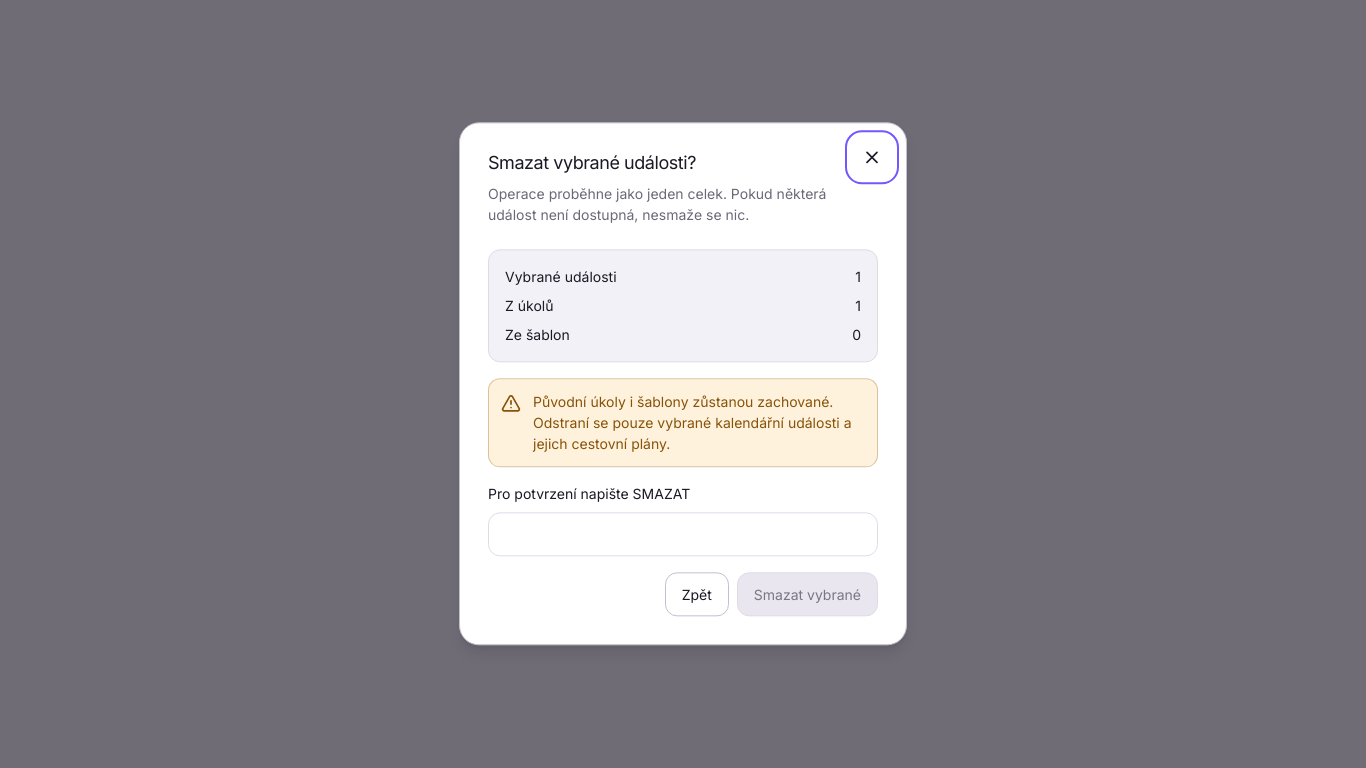
Test: shared calendar frontend › requires the explicit SMAZAT confirmation for bulk delete
The image size is (1366, 768).
Expected: the button "Smazat vybrané" is disabled, [737, 573, 878, 617]
Expected: the 1st text "1" is shown, [855, 267, 861, 288]
In the field labelled "Pro potvrzení napište SMAZAT": (683, 535) [488, 513, 878, 557], type "SMAZAT"
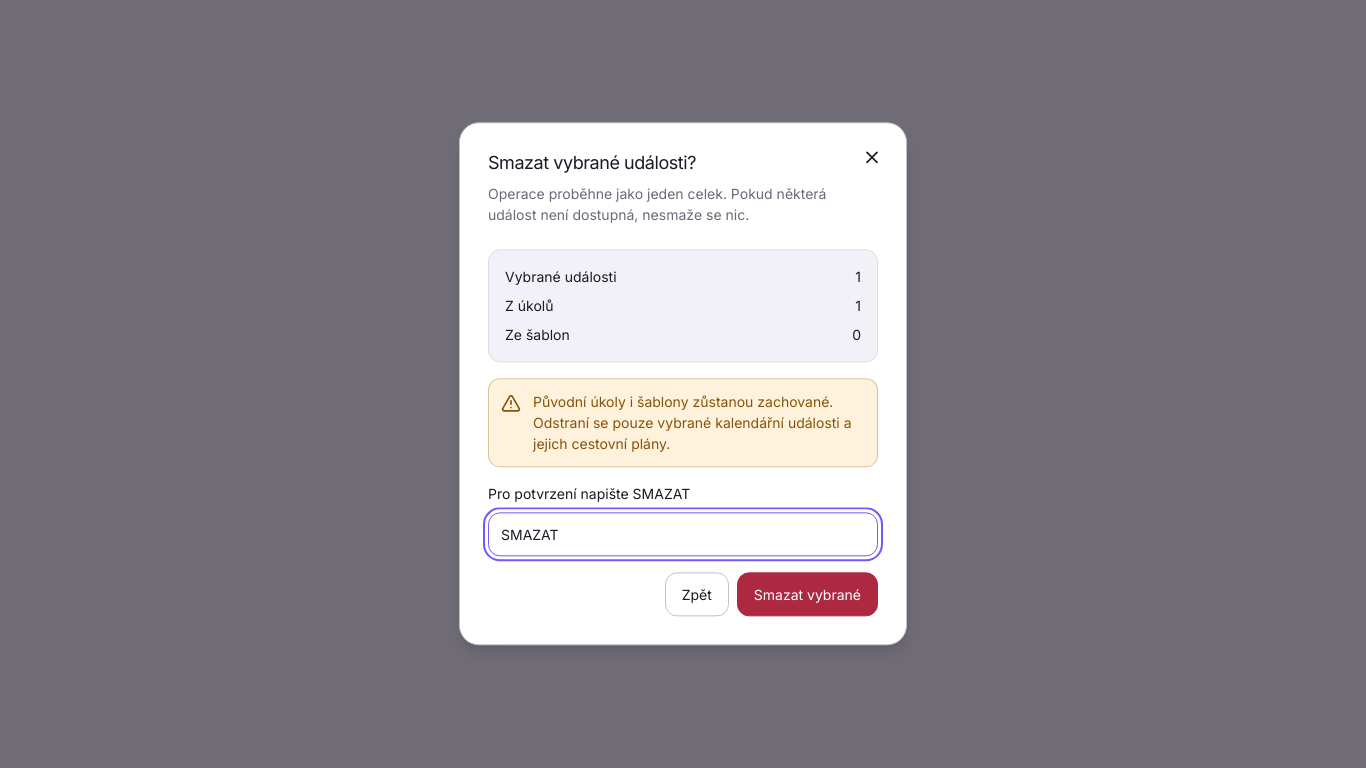
Expected: the button "Smazat vybrané" is enabled, [737, 573, 878, 617]
